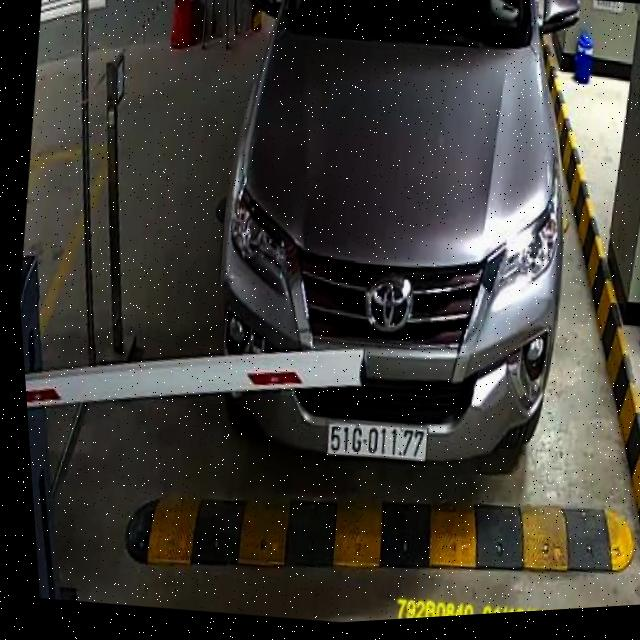car: (168, 0, 628, 516)
plate: (317, 403, 437, 475)
